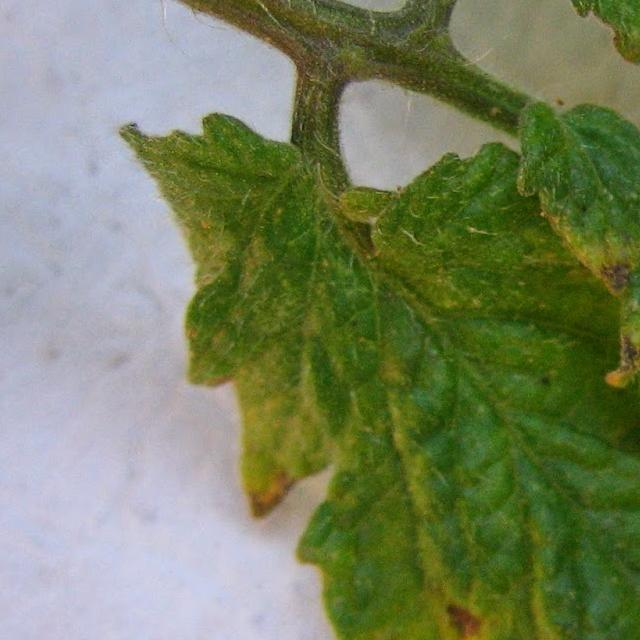Tomato Septoria leaf spot: (206, 0, 640, 640), (126, 110, 640, 640)
